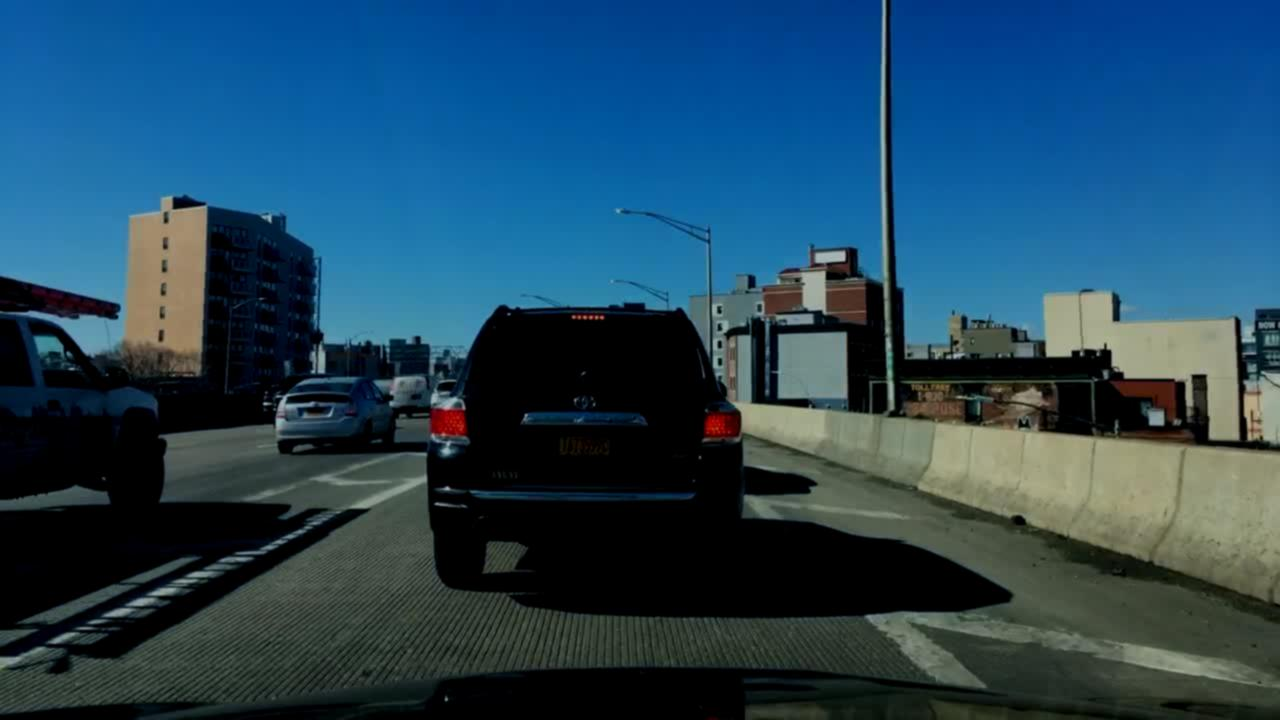Toyota: (568, 389, 600, 414)
